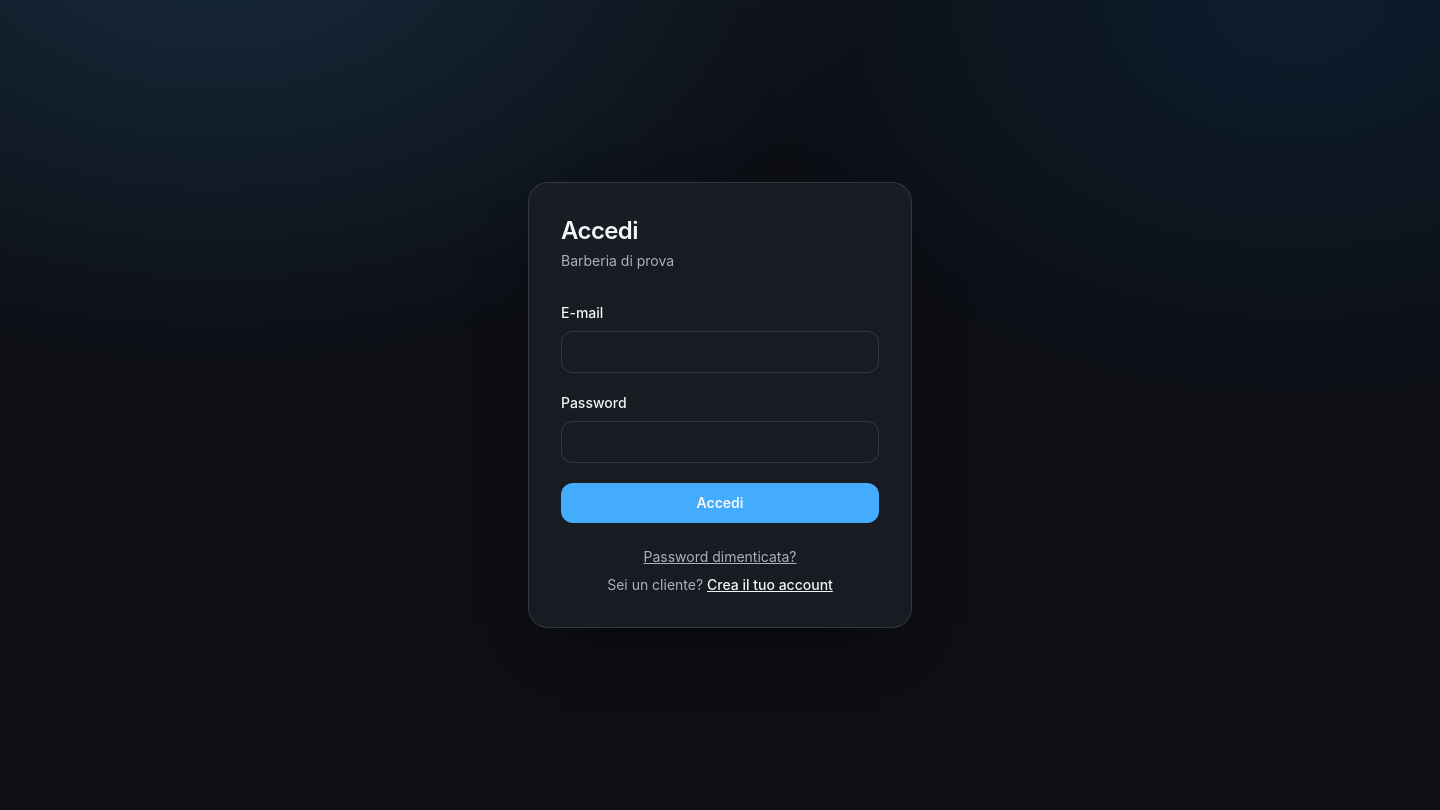
Test case: PaginaAccesso › mostra il messaggio restituito dall API in caso di credenziali errate
In the field labelled "E-mail": (720, 352) [561,331,879,373], type "titolare@salone.test"
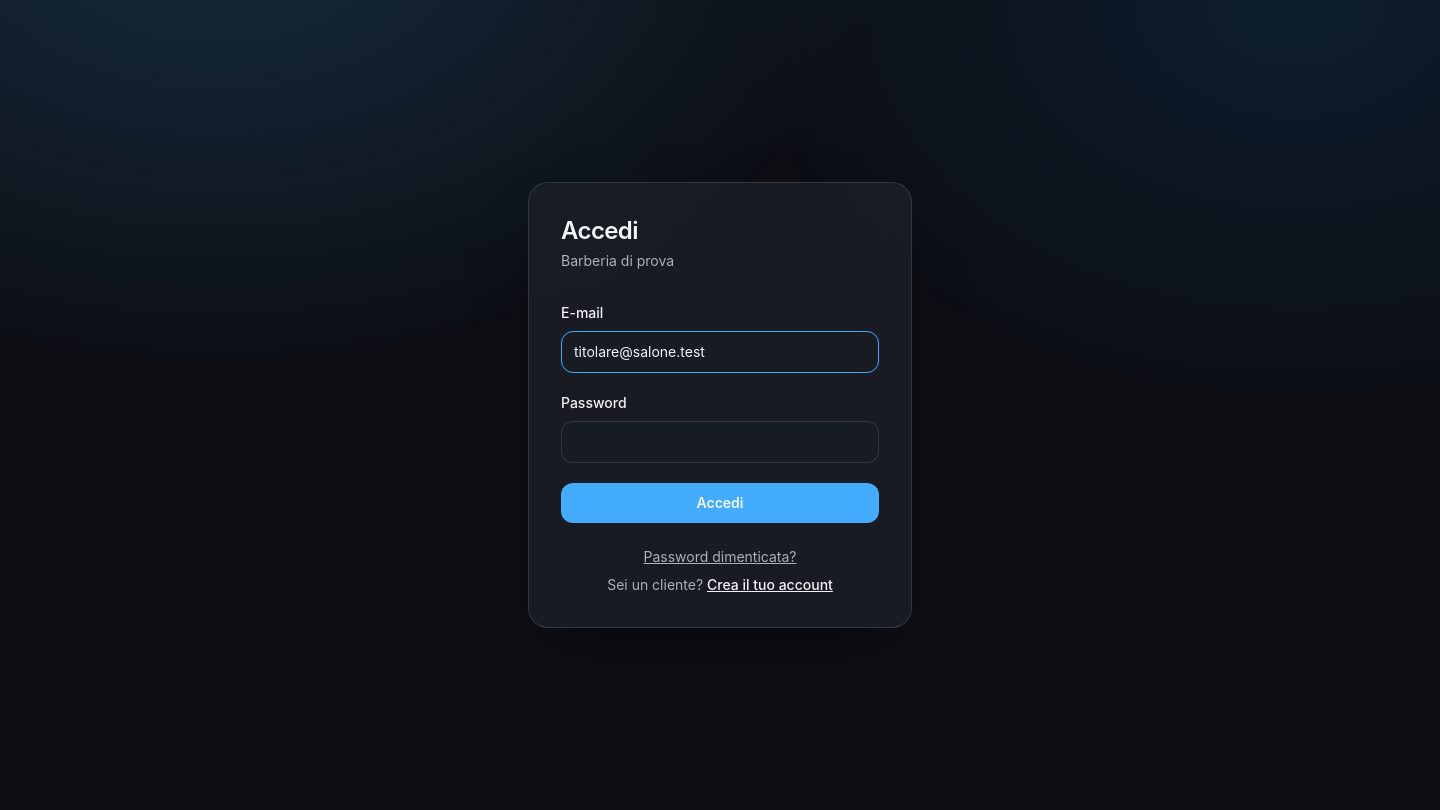
In the password field labelled "Password": (720, 442) [561,421,879,463], type "password-sbagliata-1"
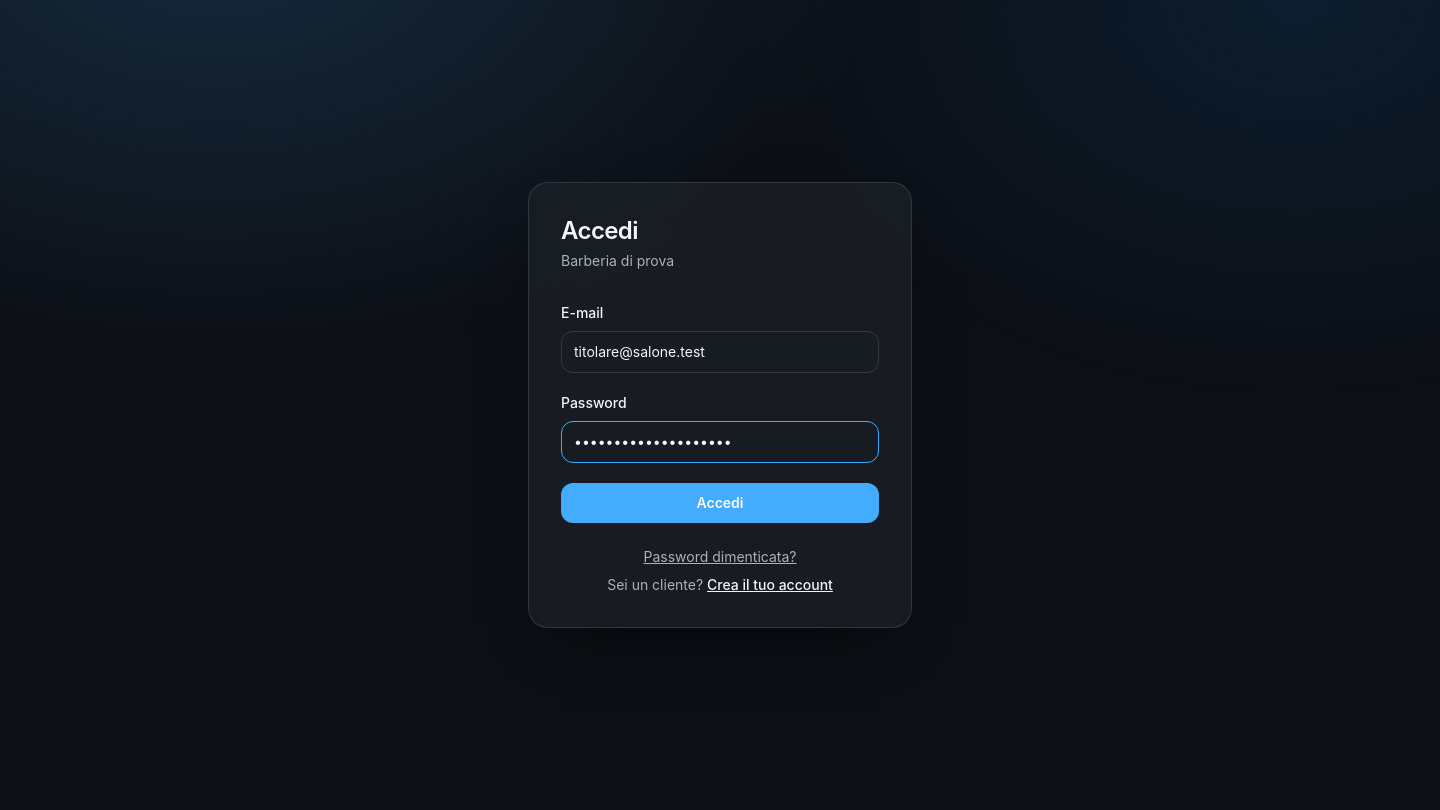
Click the button "Accedi": click(720, 503) [561,483,879,523]
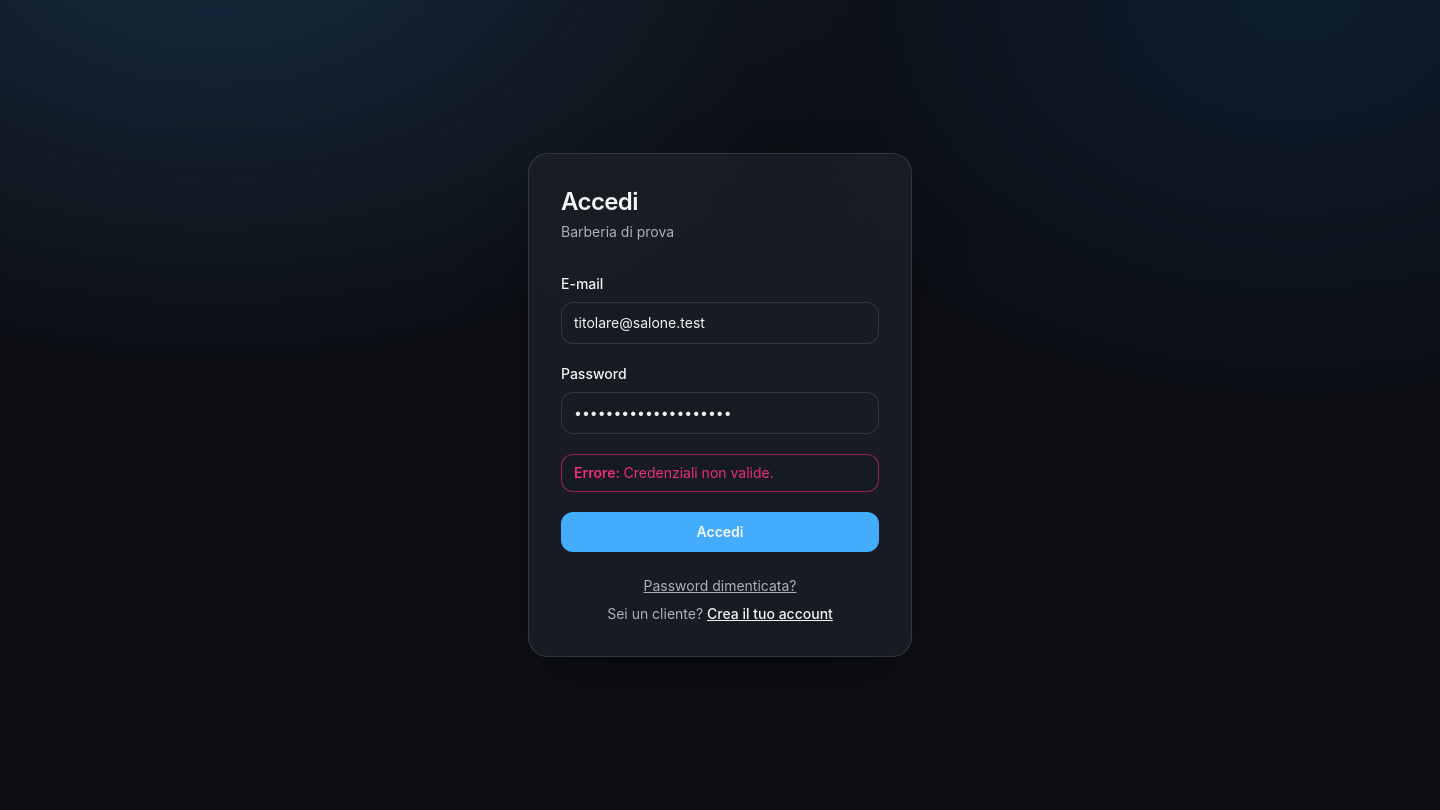
Expected: the message shows "Credenziali non valide.", [624,464,774,481]
